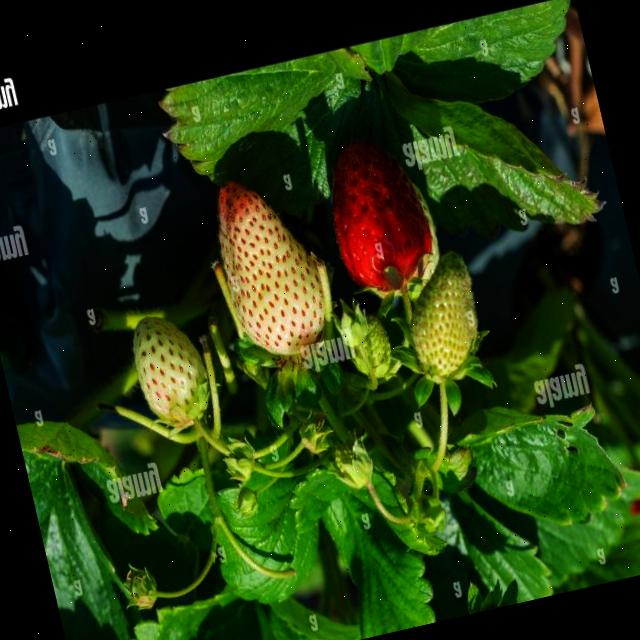strawberry: (206, 168, 334, 362), (318, 133, 439, 298), (397, 248, 492, 390), (127, 313, 217, 437)
